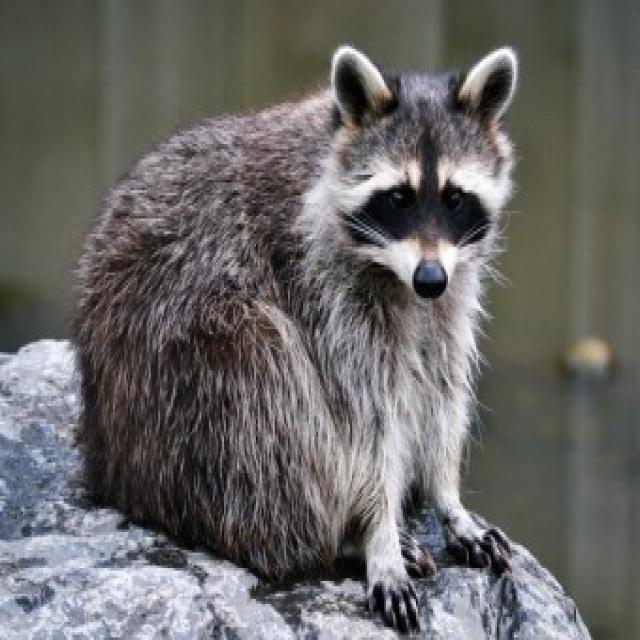racoon: (97, 70, 548, 638)
